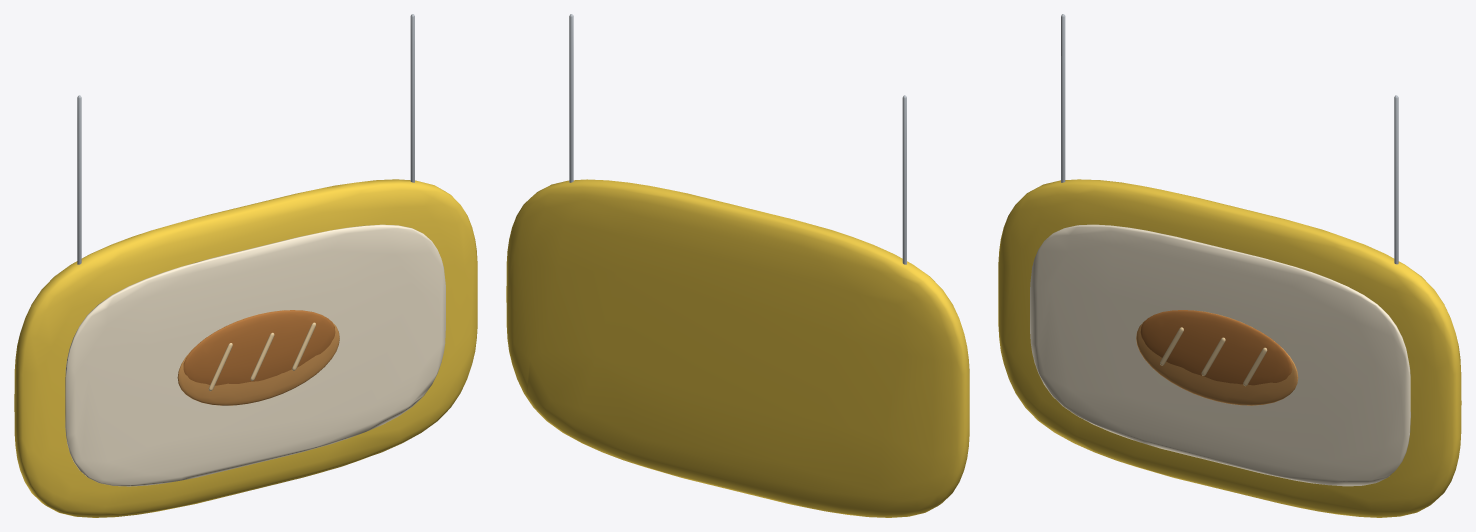
Rendered from letrero_panaderia.glb.
3 views of the same model, side by side, from view 1: azimuth 30°, elevation 25°; view 2: azimuth 150°, elevation 25°; view 3: azimuth 330°, elevation 25° (orthographic).
Parts seen in each view (by area): view 1: placa letrero.003, letrero sección.003, corteza.002, pan.002, cadena letrero.006, cadena letrero.007; view 2: letrero sección.003, cadena letrero.006, cadena letrero.007; view 3: placa letrero.003, letrero sección.003, corteza.002, pan.002, cadena letrero.007, cadena letrero.006.
Boxes of the visible parts, x1,y1,x2,y2 form: placa letrero.003: [65, 224, 445, 486]; letrero sección.003: [14, 179, 477, 517]; corteza.002: [183, 310, 335, 385]; pan.002: [177, 310, 339, 405]; cadena letrero.006: [77, 95, 81, 264]; cadena letrero.007: [410, 14, 414, 182]; letrero sección.003: [506, 179, 969, 517]; cadena letrero.006: [902, 95, 906, 264]; cadena letrero.007: [569, 14, 573, 182]; placa letrero.003: [1030, 224, 1410, 486]; letrero sección.003: [998, 179, 1461, 517]; corteza.002: [1140, 310, 1292, 385]; pan.002: [1136, 310, 1298, 405]; cadena letrero.007: [1394, 95, 1398, 264]; cadena letrero.006: [1061, 14, 1065, 182].
Bounding box in the file's own units: 1.16 × 1.05 × 0.1141.
